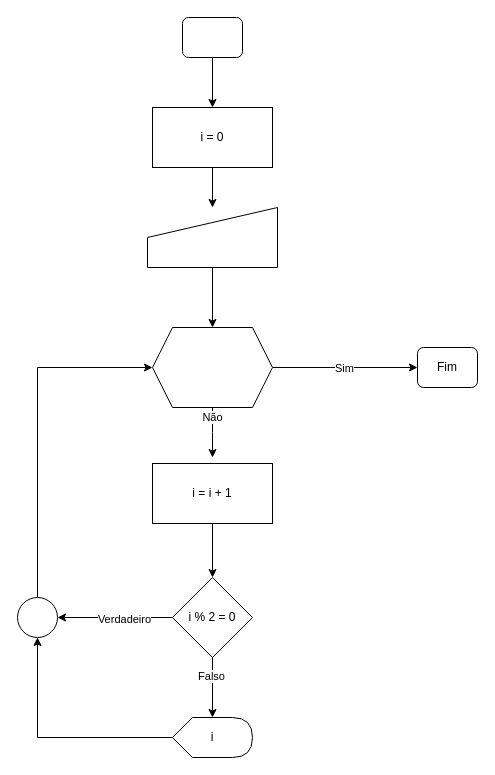
The diagram is 495 pixels wide and 775 high, and some of its shapes have lost their labels. Each missing label, with the box of its shape:
i = superior?: (152, 326, 272, 408)
Início: (182, 16, 242, 58)
Ler superior: (146, 206, 278, 268)
